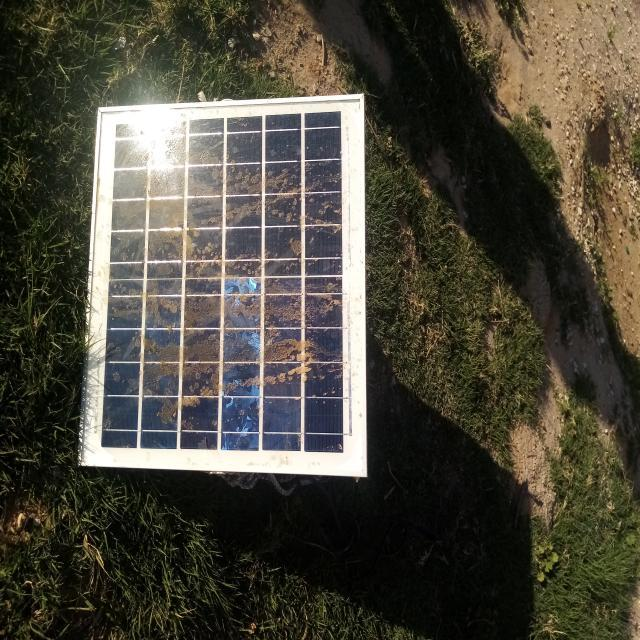faulty: (80, 98, 363, 474)
